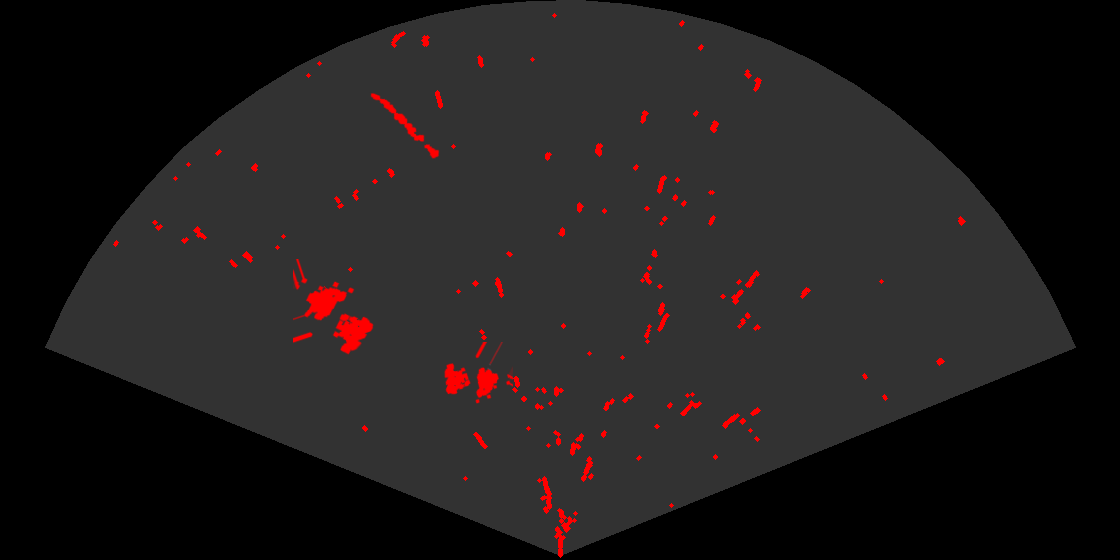cage: (293, 259, 375, 356), (443, 342, 513, 405)
chain: (369, 91, 441, 160)
